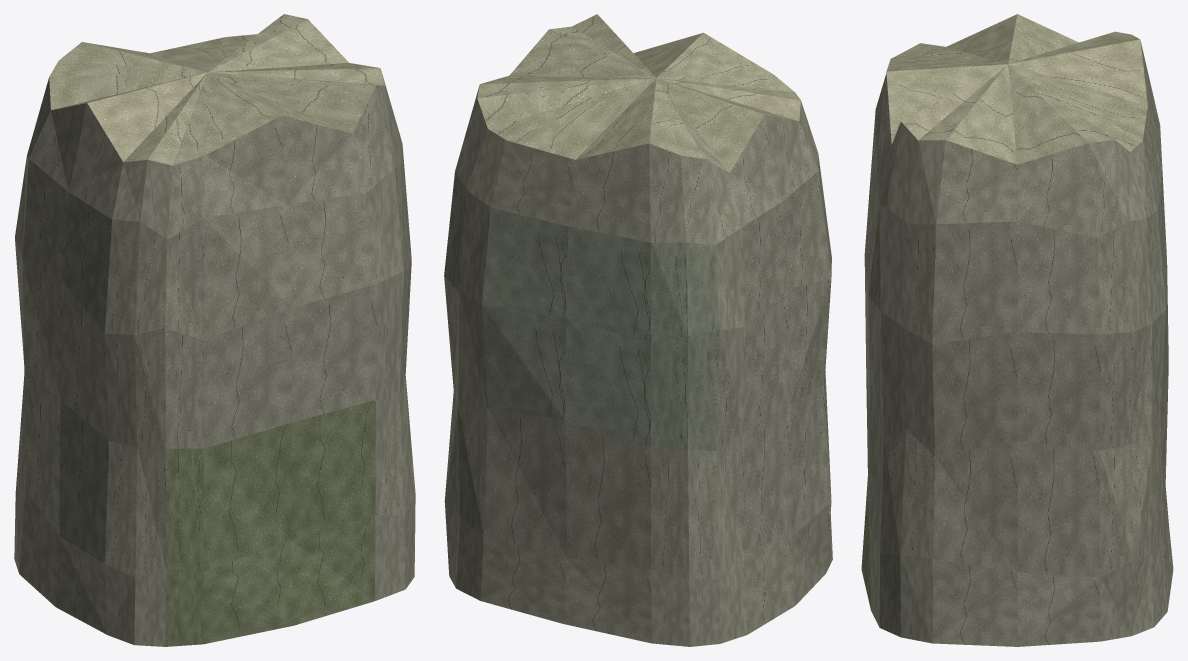
The model's file is SM_QD_UrbanRock_A_JointedCliff.fbx.
3 views of the same model, side by side, from view 1: azimuth 30°, elevation 25°; view 2: azimuth 150°, elevation 25°; view 3: azimuth 270°, elevation 25° (orthographic). The views are drawn at different scales.
Parts seen in each view (by area): view 1: SM_QD_UrbanRock_A_JointedCliff; view 2: SM_QD_UrbanRock_A_JointedCliff; view 3: SM_QD_UrbanRock_A_JointedCliff.
Boxes of the visible parts, box(x1,y1,x2,y2) form: SM_QD_UrbanRock_A_JointedCliff: box(14, 14, 415, 646); SM_QD_UrbanRock_A_JointedCliff: box(444, 14, 832, 646); SM_QD_UrbanRock_A_JointedCliff: box(861, 14, 1173, 646).
Bounding box in the file's own units: 4 × 3.4 × 6.
Materials: 1 (1 with a texture image).
